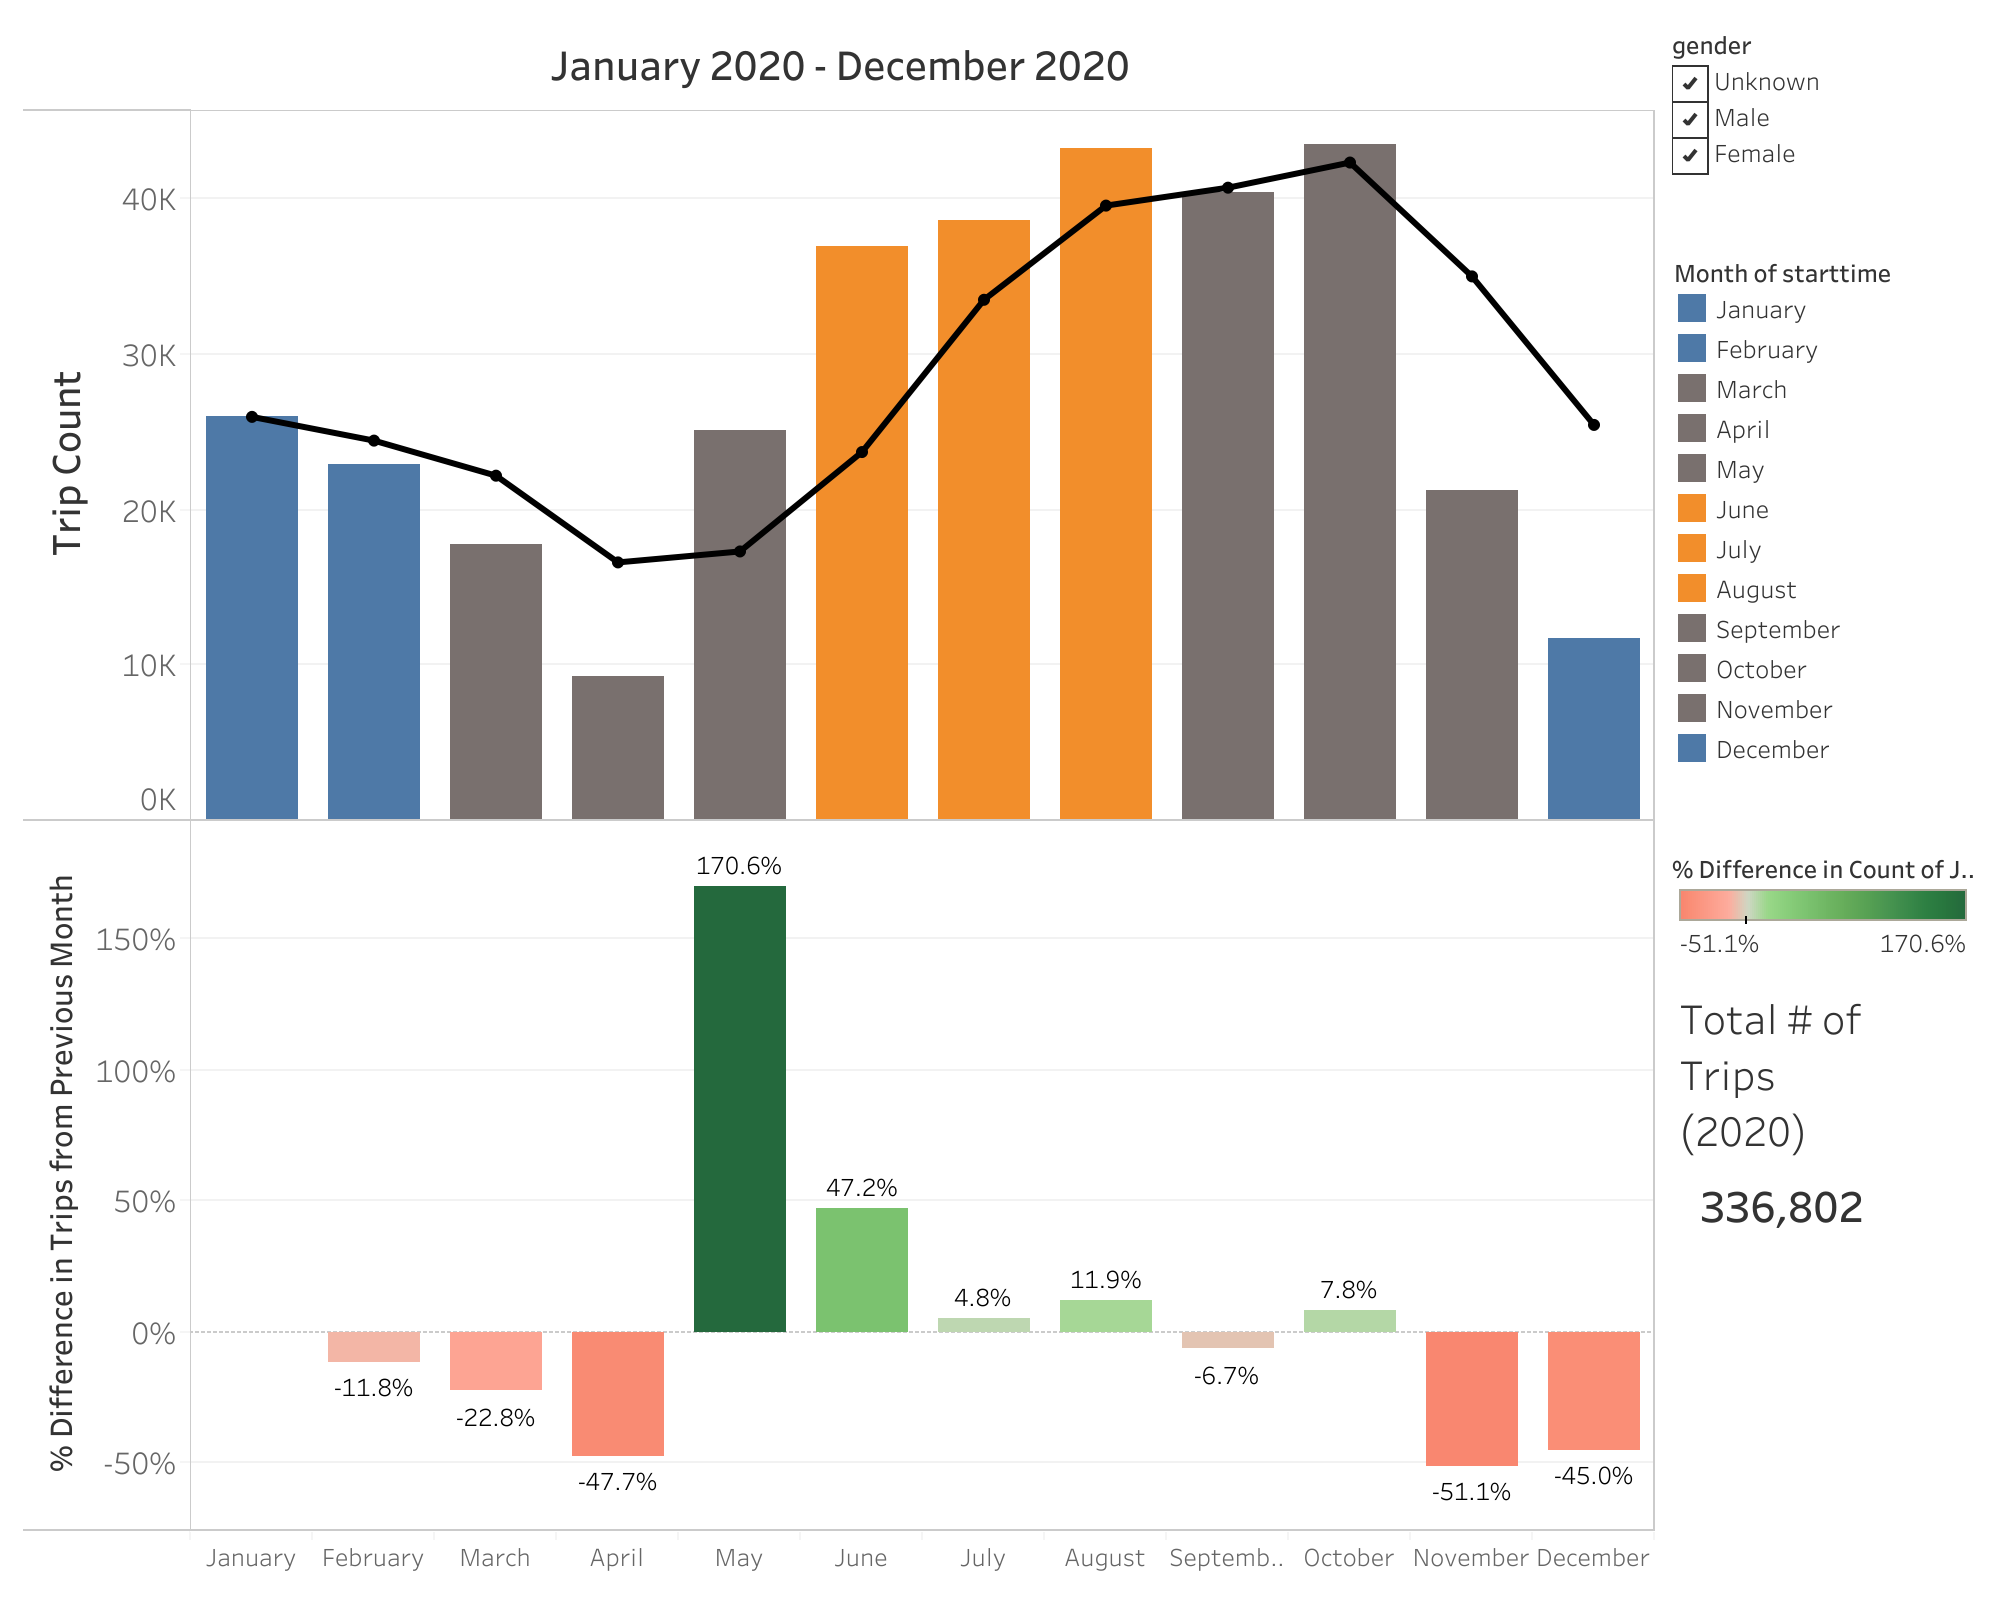

This screenshot's page, from the dashboard's own definition file:
{"tool":"tableau","page":{"name":"2020 Months","canvas":[1000,800],"ordinal":0},"visuals":[{"type":"worksheet","box":[0,0,1000,800]},{"type":"worksheet","param":"horz","box":[8,8,984,784]},{"type":"worksheet","box":[8,8,824,784]},{"type":"worksheet","title":"Months","mark":"Bar","rows":["_9600791658004DF18070FB139A6BCF63","_9600791658004DF18070FB139A6BCF63","_9600791658004DF18070FB139A6BCF63"],"cols":["starttime"],"box":[8,8,824,784]},{"type":"worksheet","param":"vert","box":[832,8,160,784]},{"type":"worksheet","title":"Months","mark":"Bar","rows":["_9600791658004DF18070FB139A6BCF63","_9600791658004DF18070FB139A6BCF63","_9600791658004DF18070FB139A6BCF63"],"cols":["starttime"],"param":"[federated.04309tp15jpd0l17ea44u0o4eyy3].[none:gender:ok]","box":[832,8,160,108]},{"type":"worksheet","title":"Months","mark":"Bar","rows":["_9600791658004DF18070FB139A6BCF63","_9600791658004DF18070FB139A6BCF63","_9600791658004DF18070FB139A6BCF63"],"cols":["starttime"],"param":"[federated.04309tp15jpd0l17ea44u0o4eyy3].[mn:starttime:ok]","box":[832,116,160,296]},{"type":"worksheet","title":"Months","mark":"Bar","rows":["_9600791658004DF18070FB139A6BCF63","_9600791658004DF18070FB139A6BCF63","_9600791658004DF18070FB139A6BCF63"],"cols":["starttime"],"param":"[federated.04309tp15jpd0l17ea44u0o4eyy3].[__tableau_internal_object_id__].[pcdf:","box":[832,412,160,65]},{"type":"worksheet","title":"# of Trips","mark":"Automatic","box":[832,477,160,136]}]}

Visuals, with their boxes in screenshot pixels (x1, y1, x2, y2), scaled from the page's 1000x800 canvas onto the 1998x1598 screenshot:
worksheet: [0,0,1997,1597]
worksheet: [16,16,1982,1582]
worksheet: [16,16,1662,1582]
"Months" worksheet (Bar marks): [16,16,1662,1582]
worksheet: [1662,16,1982,1582]
"Months" worksheet (Bar marks): [1662,16,1982,232]
"Months" worksheet (Bar marks): [1662,232,1982,823]
"Months" worksheet (Bar marks): [1662,823,1982,953]
"# of Trips" worksheet: [1662,953,1982,1224]
